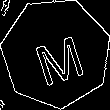M_N: (26, 22, 86, 84)
